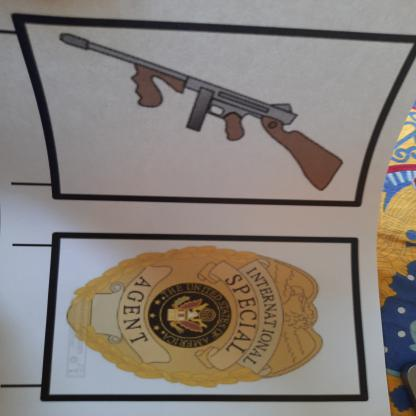Bootlegger: (52, 20, 351, 201)
G-man: (61, 237, 333, 392)
